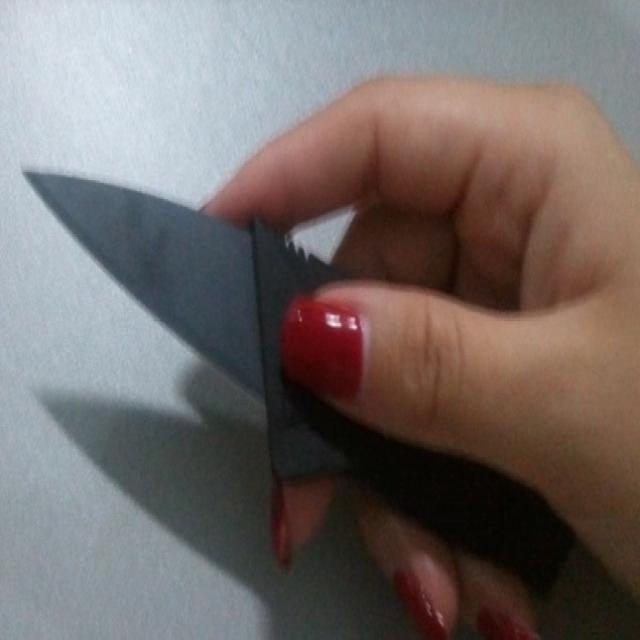knife: (23, 153, 291, 470)
